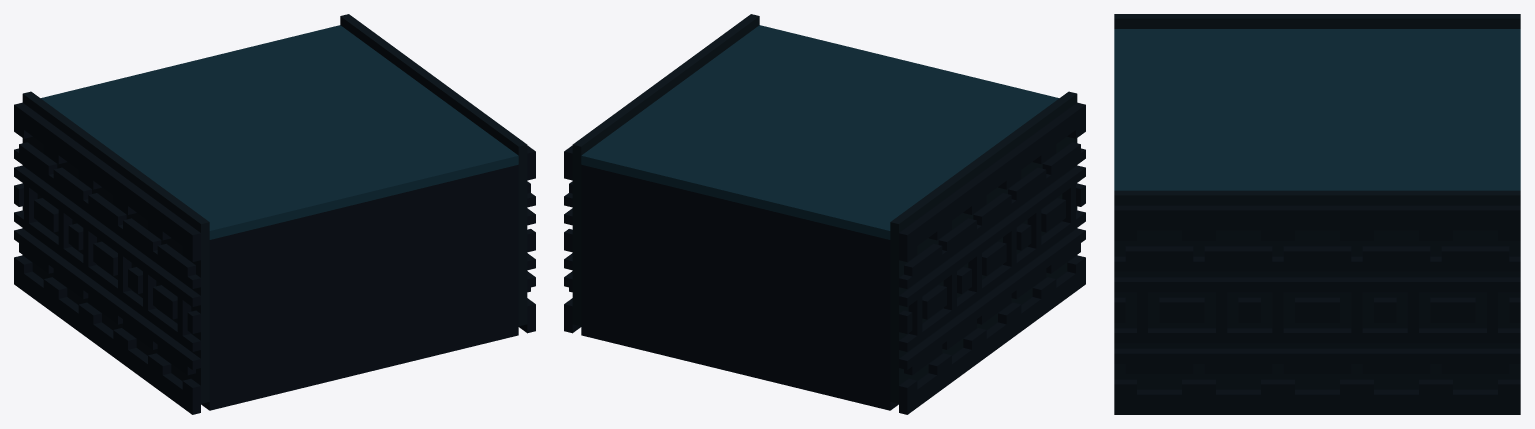
The model's file is Block_Base_TwoSides.obj.
3 renders of one model, left to right at view 1: azimuth 30°, elevation 25°; view 2: azimuth 150°, elevation 25°; view 3: azimuth 270°, elevation 25°, orthographic. The views are drawn at different scales.
Bounding box in the file's own units: 1 × 0.525 × 0.9.
